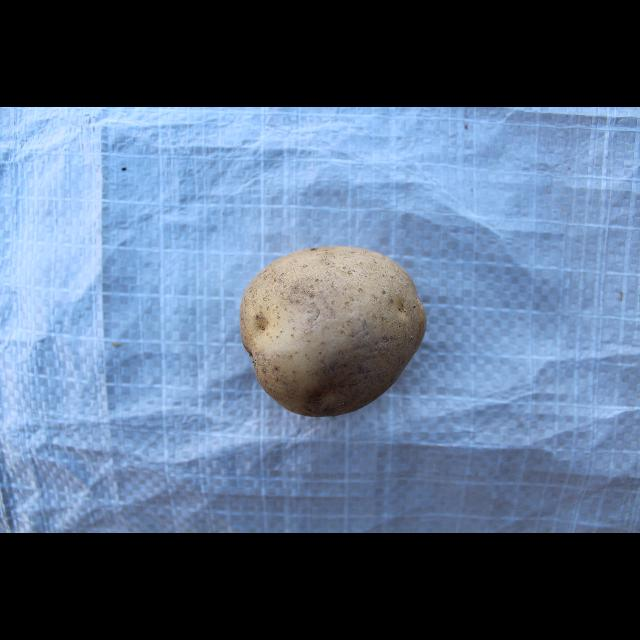Diseased-fungal potato: (236, 240, 430, 426)
